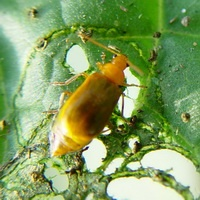insect: (51, 54, 127, 156)
